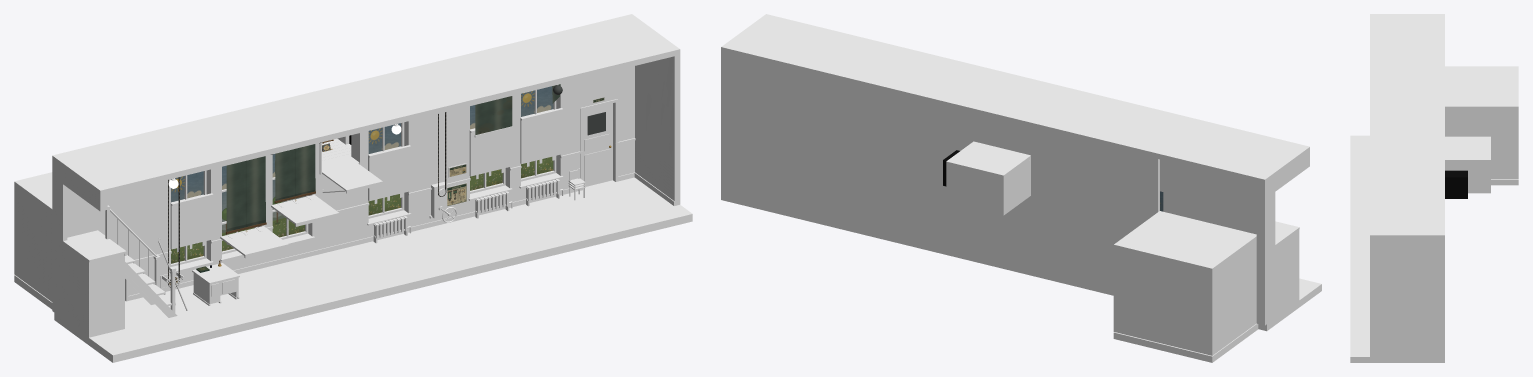
3 renders of one model, left to right at view 1: azimuth 30°, elevation 25°; view 2: azimuth 150°, elevation 25°; view 3: azimuth 270°, elevation 25°, orthographic. The views are drawn at different scales.
Visible parts, largest first — view 1: AttWinSet, AttCupboard, MECH_PairedBlindDrive_dl14_blinds__AttBlindA, MECH_PairedBlindDrive_dl14_blinds__AttBlindB, MECH_PairedBlindDrive_dl14_blinds__AttLedgeA, MECH_PairedBlindDrive_dl14_blinds__AttLedgeB, MECH_PairedBlindDrive_dl14_blinds__AttChain; view 2: AttWinSet, AttCupboard; view 3: AttWinSet, AttCupboard.
Part boxes in pixels (x1,y1,x2,y2): AttWinSet: [52, 14, 692, 362]; AttCupboard: [14, 172, 128, 309]; MECH_PairedBlindDrive_dl14_blinds__AttBlindA: [226, 156, 266, 234]; MECH_PairedBlindDrive_dl14_blinds__AttBlindB: [274, 144, 315, 203]; MECH_PairedBlindDrive_dl14_blinds__AttLedgeA: [220, 226, 288, 258]; MECH_PairedBlindDrive_dl14_blinds__AttLedgeB: [271, 194, 339, 226]; MECH_PairedBlindDrive_dl14_blinds__AttChain: [168, 112, 446, 287]; AttWinSet: [721, 14, 1321, 331]; AttCupboard: [1113, 211, 1258, 362]; AttWinSet: [1350, 14, 1490, 362]; AttCupboard: [1445, 66, 1518, 185].
Bounding box in the file's own units: 16 × 4.3 × 5.15.
Materials: 19 (4 with a texture image).
